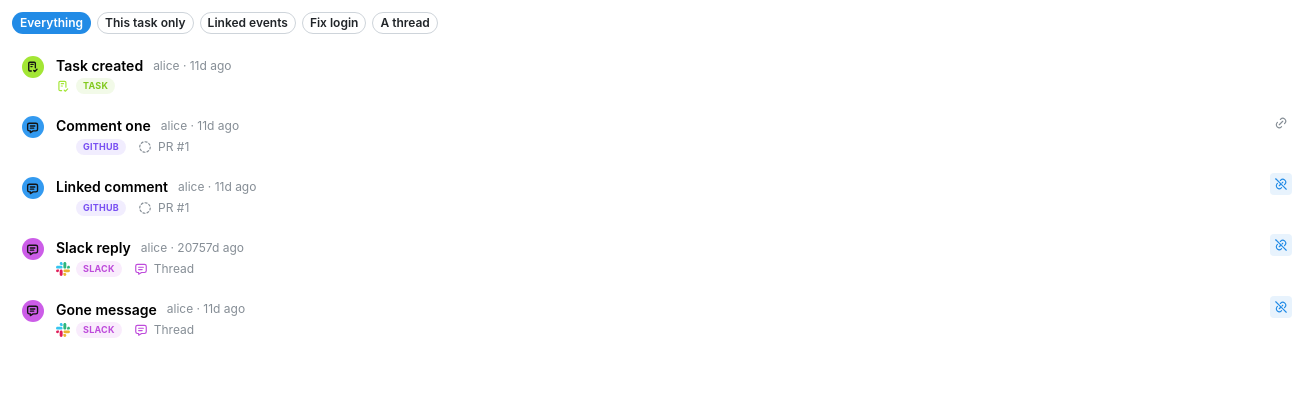
ActivityTab › a failed link says why
The image size is (1304, 397).
Click the button named "Link event: Comment one" at (1281, 123), box [1270, 112, 1292, 134]
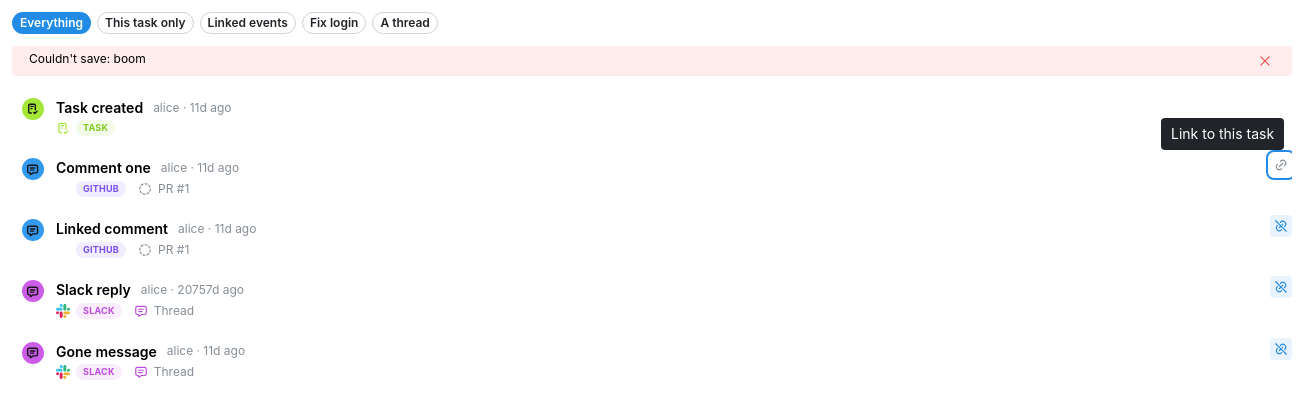
Expected: the text "Couldn't save: boom" is shown, [29, 51, 146, 66]
